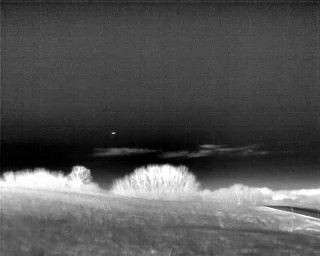AIRPLANE: (110, 130, 117, 136)
